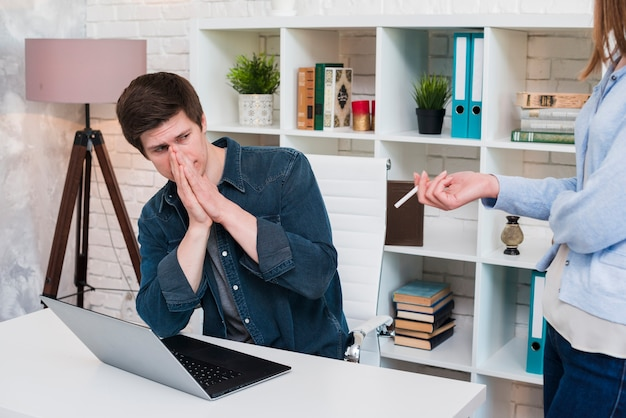cigarette: (393, 179, 433, 208)
